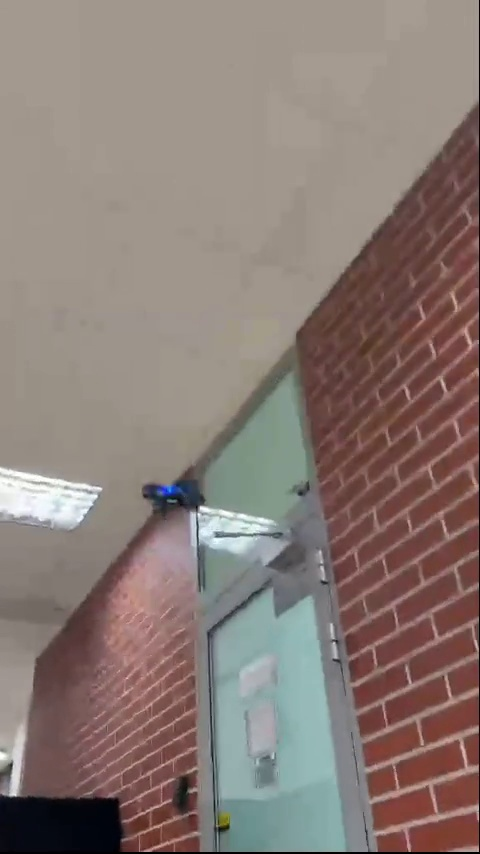drone: (141, 478, 206, 512)
